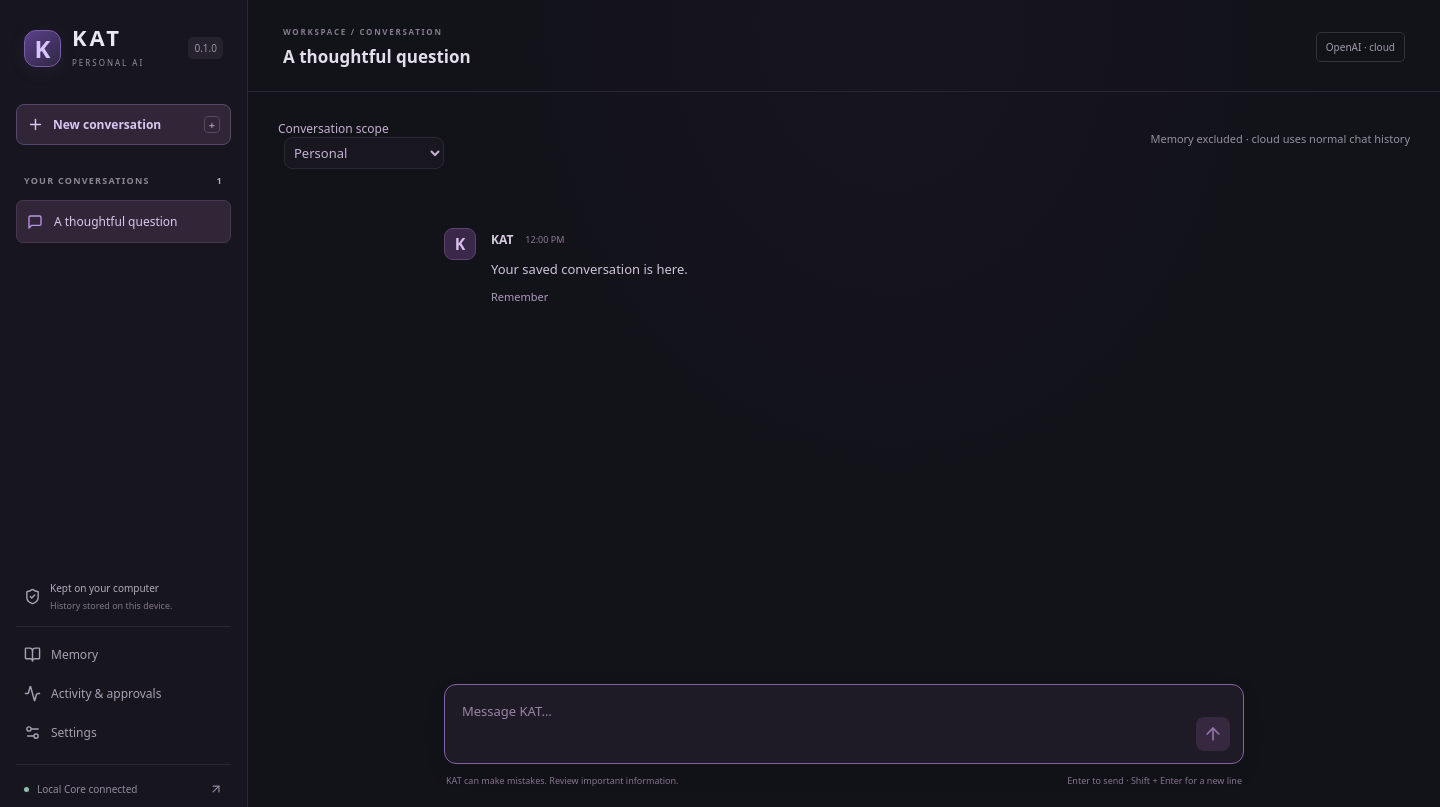
Scenario: Windows provider credential controls › removes only the saved key and explains when an environment key still configures Core
Expected: the text "Your saved conversation is here." is shown, x1=491 y1=260 x2=688 y2=278
Click the button "Settings". click: click(124, 732)
box: x1=16 y1=713 x2=231 y2=752
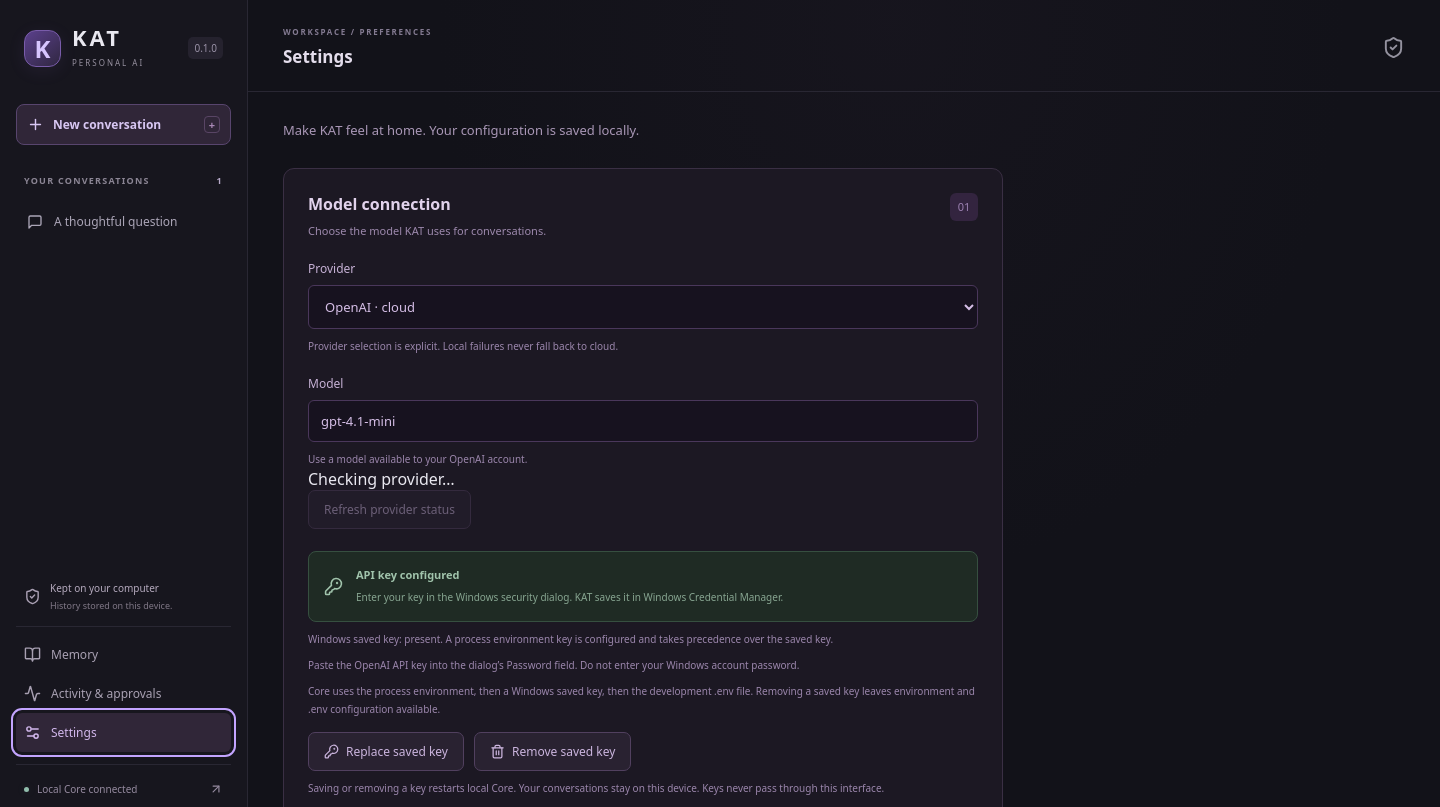
Click the button "Remove saved key". click: click(553, 751)
box: x1=474 y1=732 x2=631 y2=771
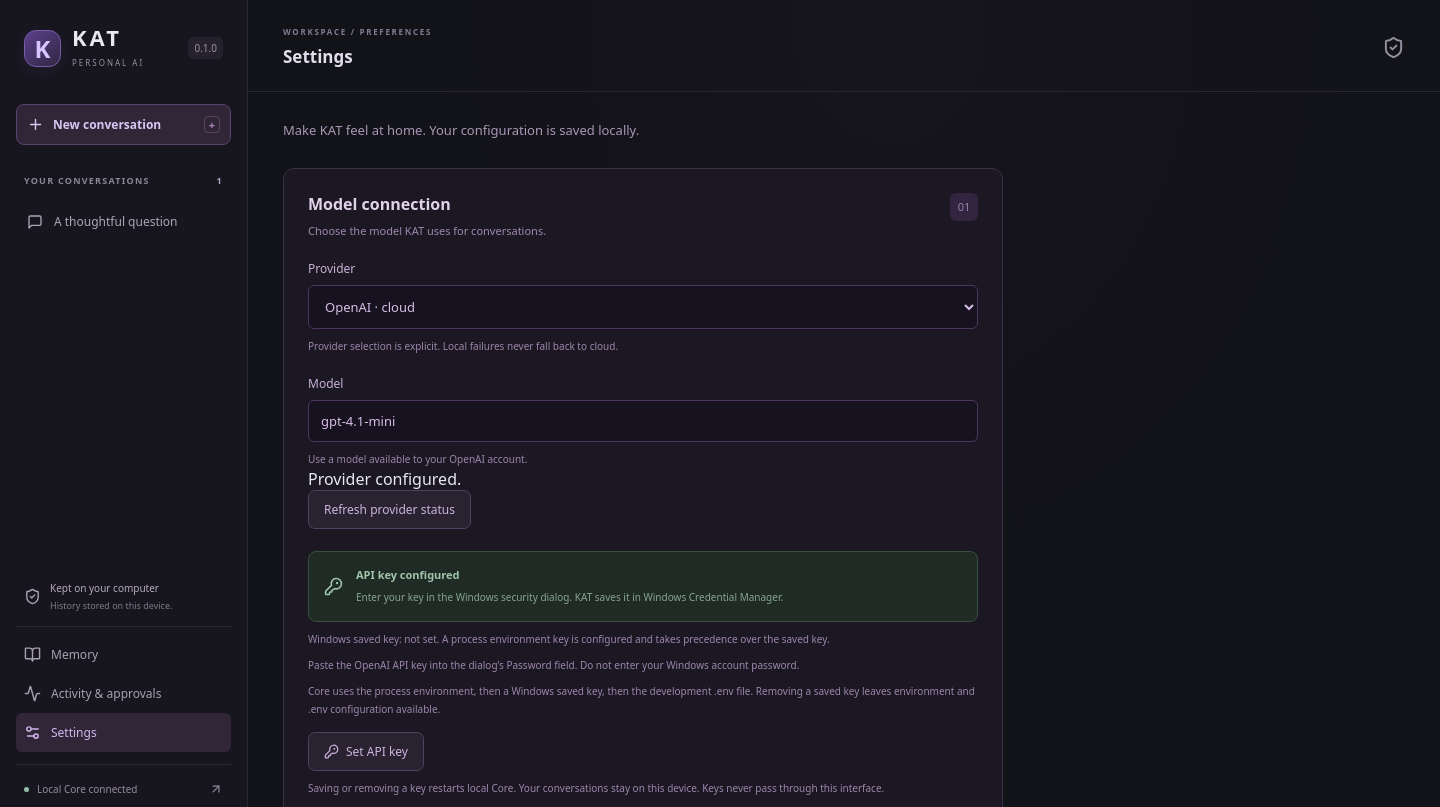
Expected: the text "API key configured" is shown, x1=356 y1=567 x2=460 y2=582
Expected: the text "process environment key is configured and takes precedence" is shown, x1=442 y1=632 x2=830 y2=646
Expected: the text "Windows saved key: not set" is shown, x1=308 y1=632 x2=440 y2=646
